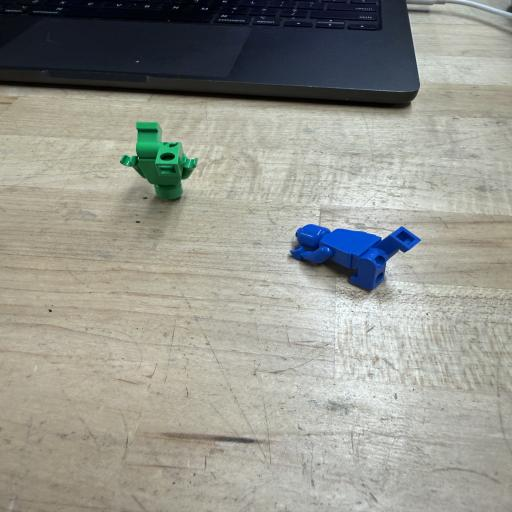blue-minifig: (290, 224, 420, 290)
green-minifig: (120, 122, 197, 199)
